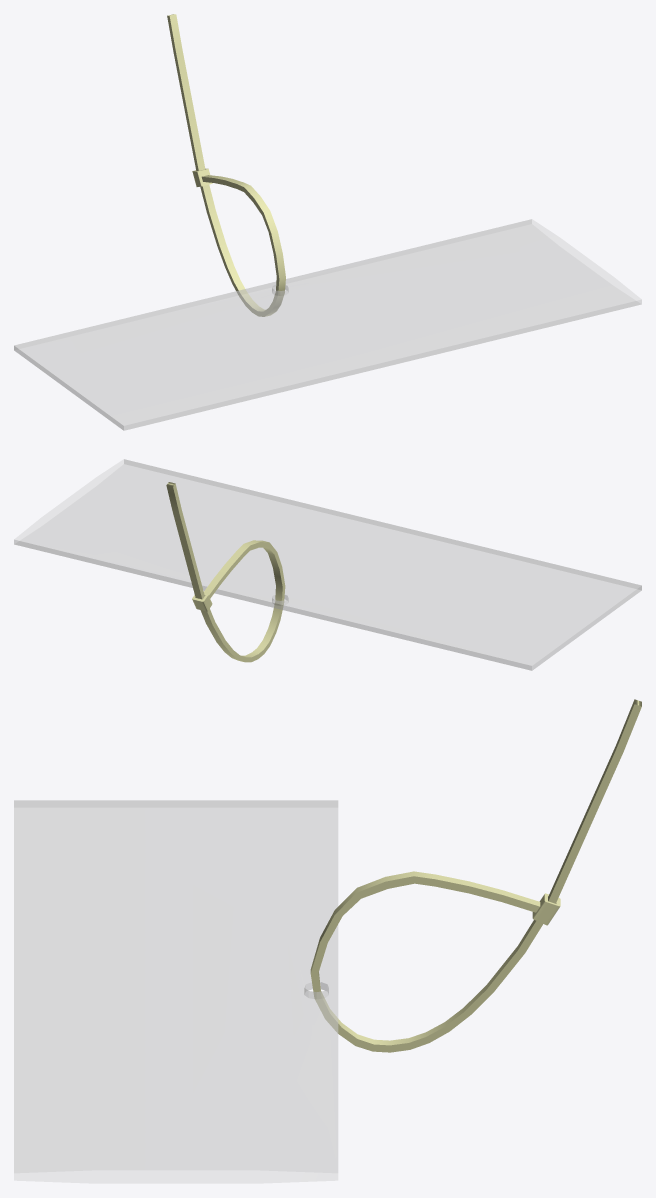
File: Cover_with_hole.fbx
3 renders of one model, top to bottom at view 1: azimuth 30°, elevation 25°; view 2: azimuth 150°, elevation 25°; view 3: azimuth 270°, elevation 25°, orthographic. The views are drawn at different scales.
Parts seen in each view (by area): view 1: Bag, cable_tie1; view 2: Bag, cable_tie1; view 3: Bag, cable_tie1.
Part boxes in pixels (x1,y1,x2,y2): Bag: [14, 219, 641, 430]; cable_tie1: [167, 14, 285, 316]; Bag: [14, 459, 641, 670]; cable_tie1: [166, 482, 285, 662]; Bag: [14, 800, 338, 1183]; cable_tie1: [310, 699, 641, 1052].
Size of the model in its own units: 5.99 by 2.61 by 4.26.
